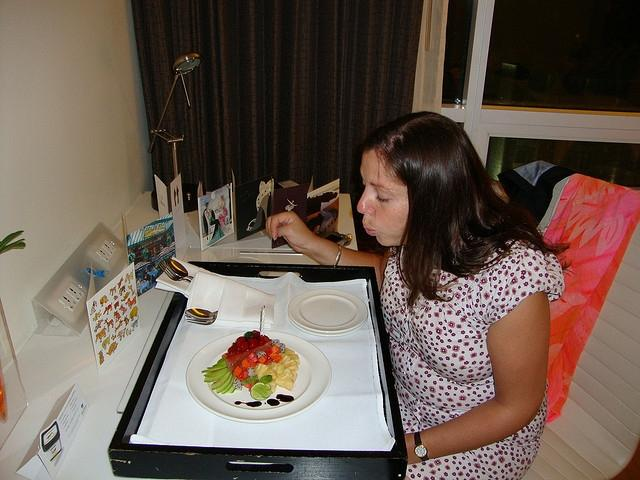apple: (210, 371, 231, 390), (216, 373, 233, 394), (204, 370, 230, 383), (220, 376, 233, 394), (202, 365, 226, 373), (228, 386, 235, 393)
